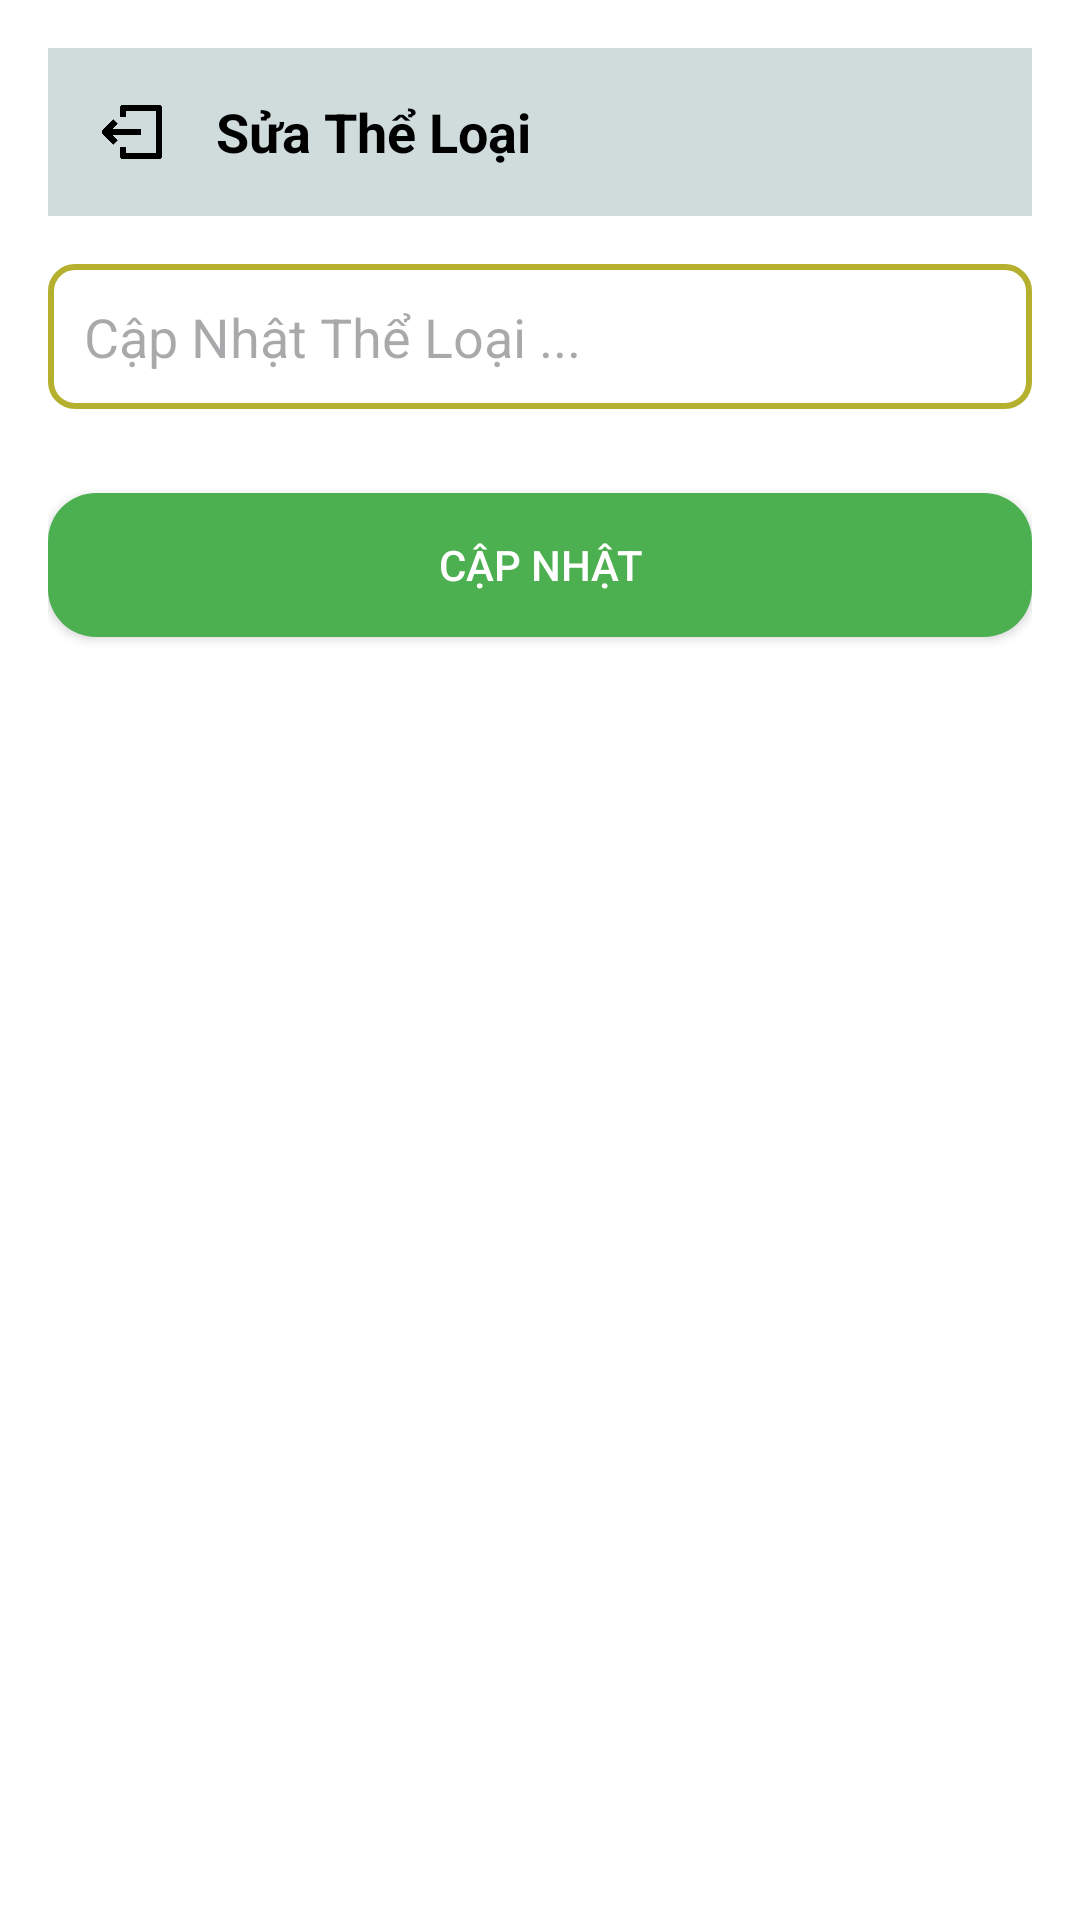

Icons on this 1080 × 1920 Android screen, each with its box as (x1, y1, x2, y2):
imgexit: (102, 105, 162, 159)
